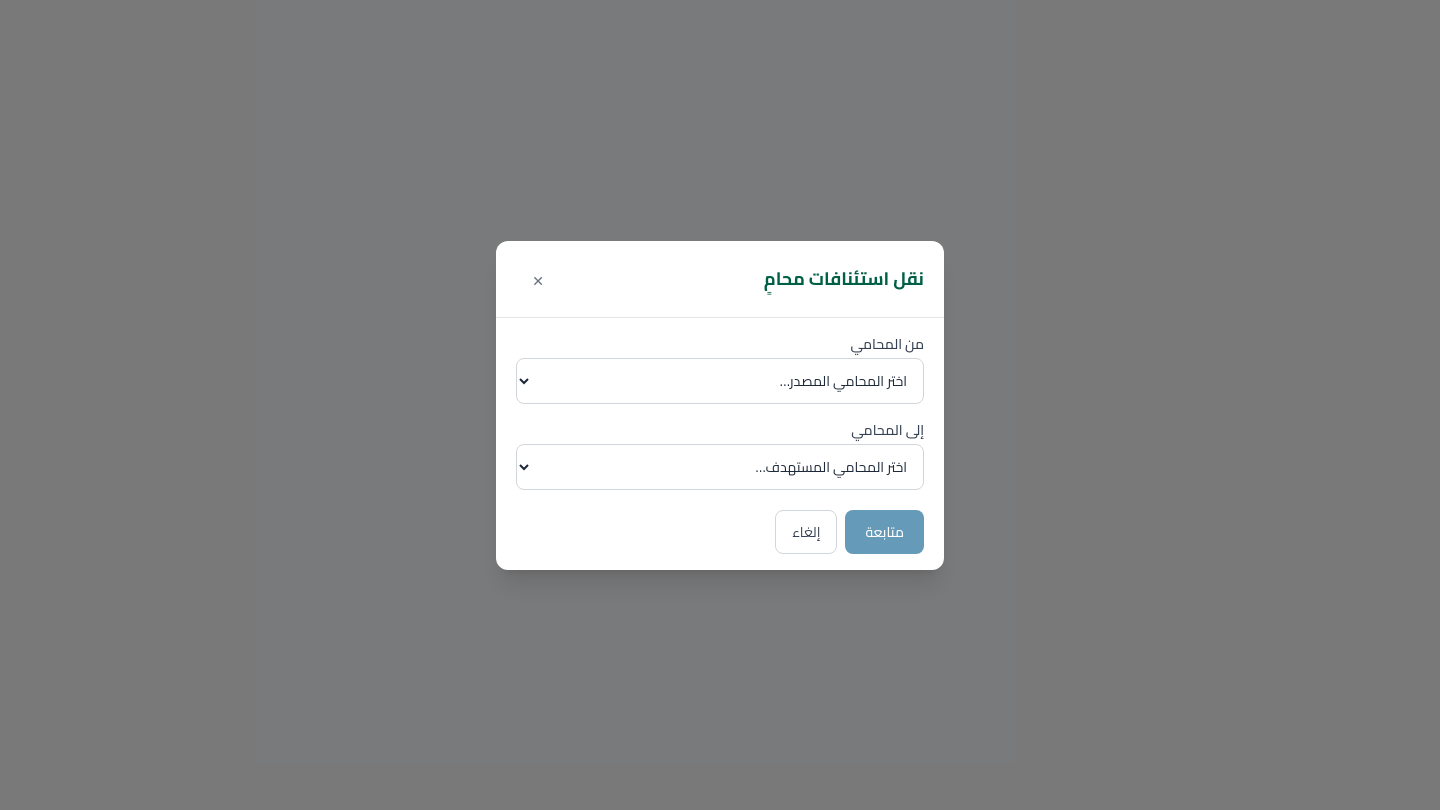
Scenario: TransferAllAppealsModal › معاينة النقل توضح أن المنظورة فقط تُنقل
The width and height of the screenshot is (1440, 810).
Select "محامي أول" in the dropdown labelled "من المحامي" at (720, 380), box [516,358,924,404]
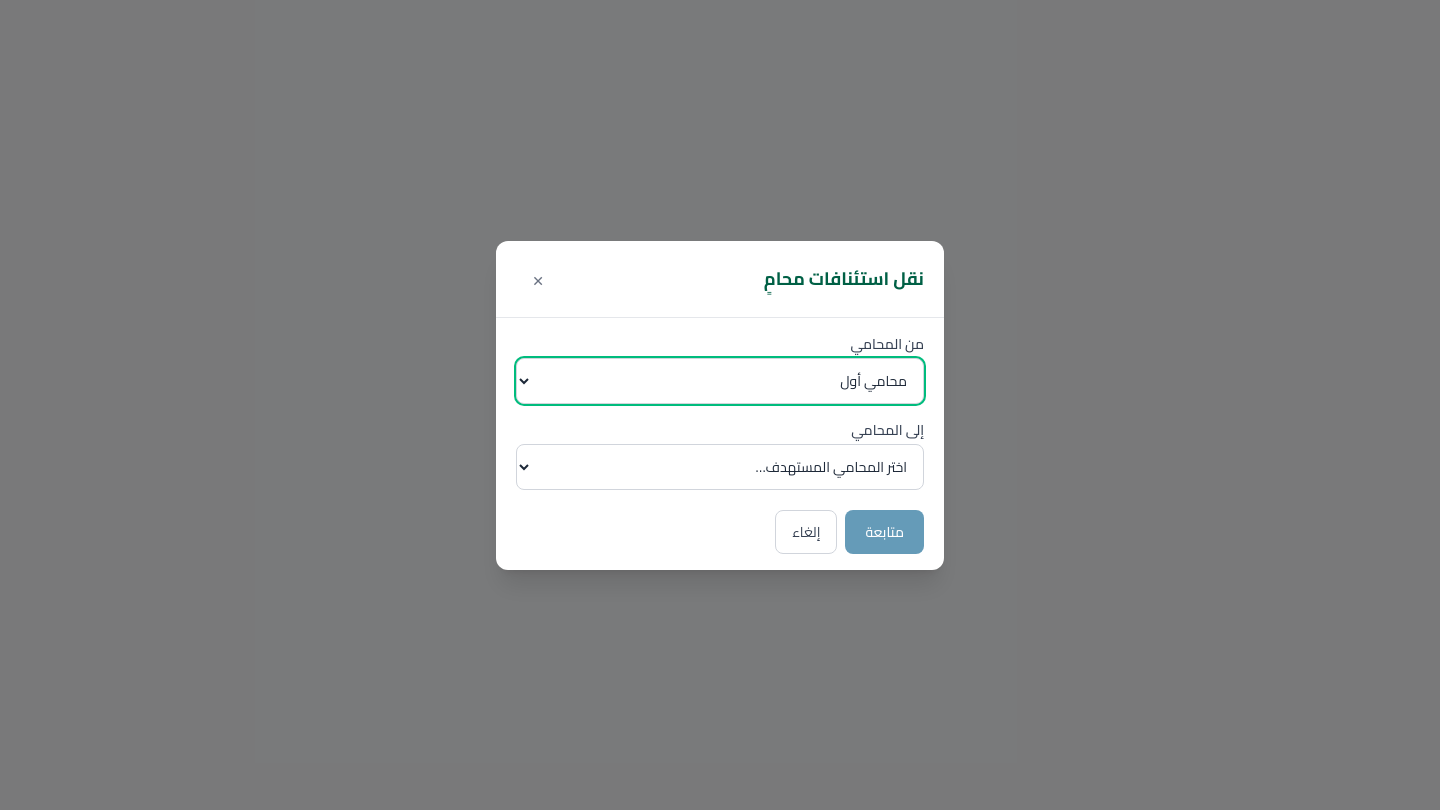
Select "محامي ثانٍ" in the dropdown labelled "إلى المحامي" at (720, 466), box [516,444,924,490]
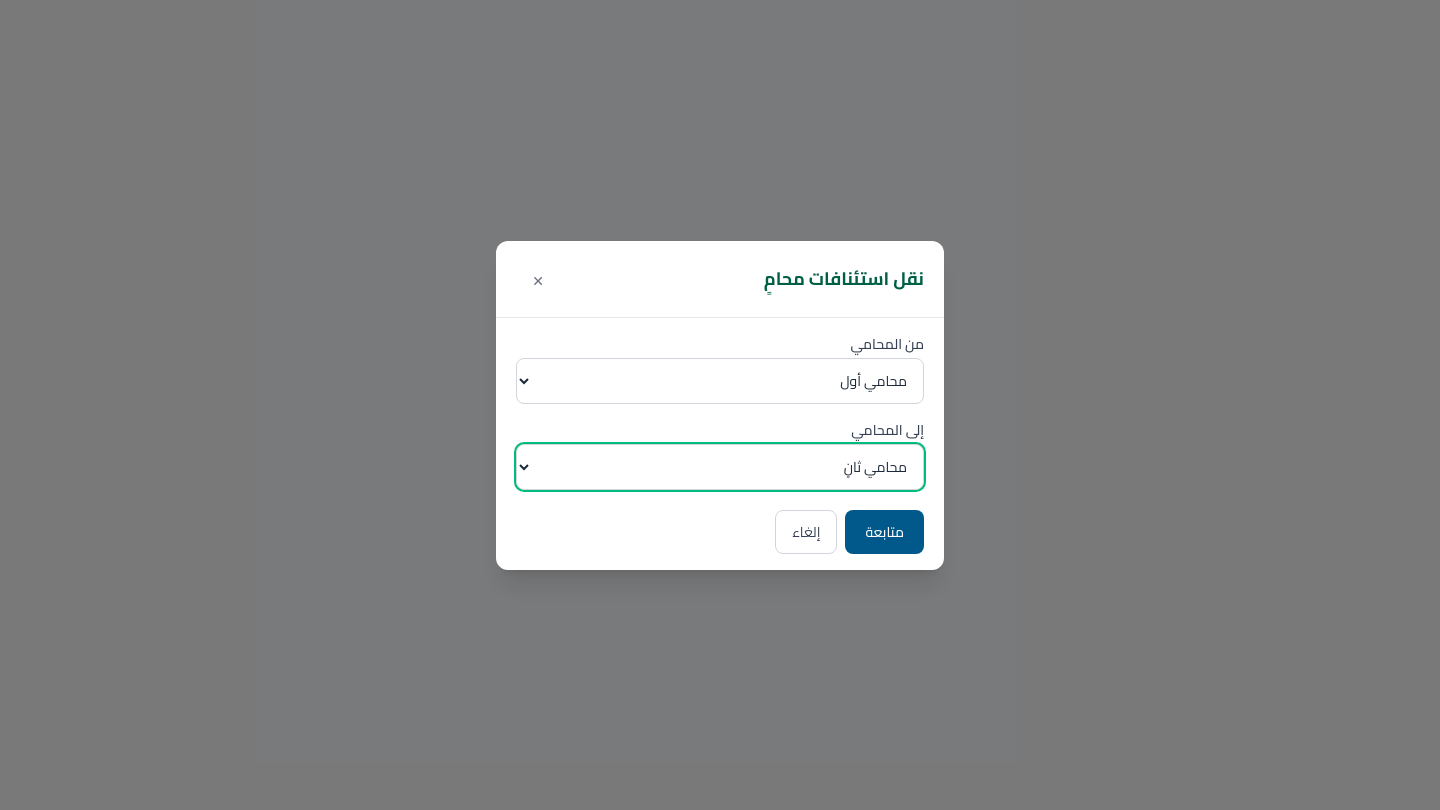
Click the button "متابعة".
click(885, 532)  # box [845,510,924,554]
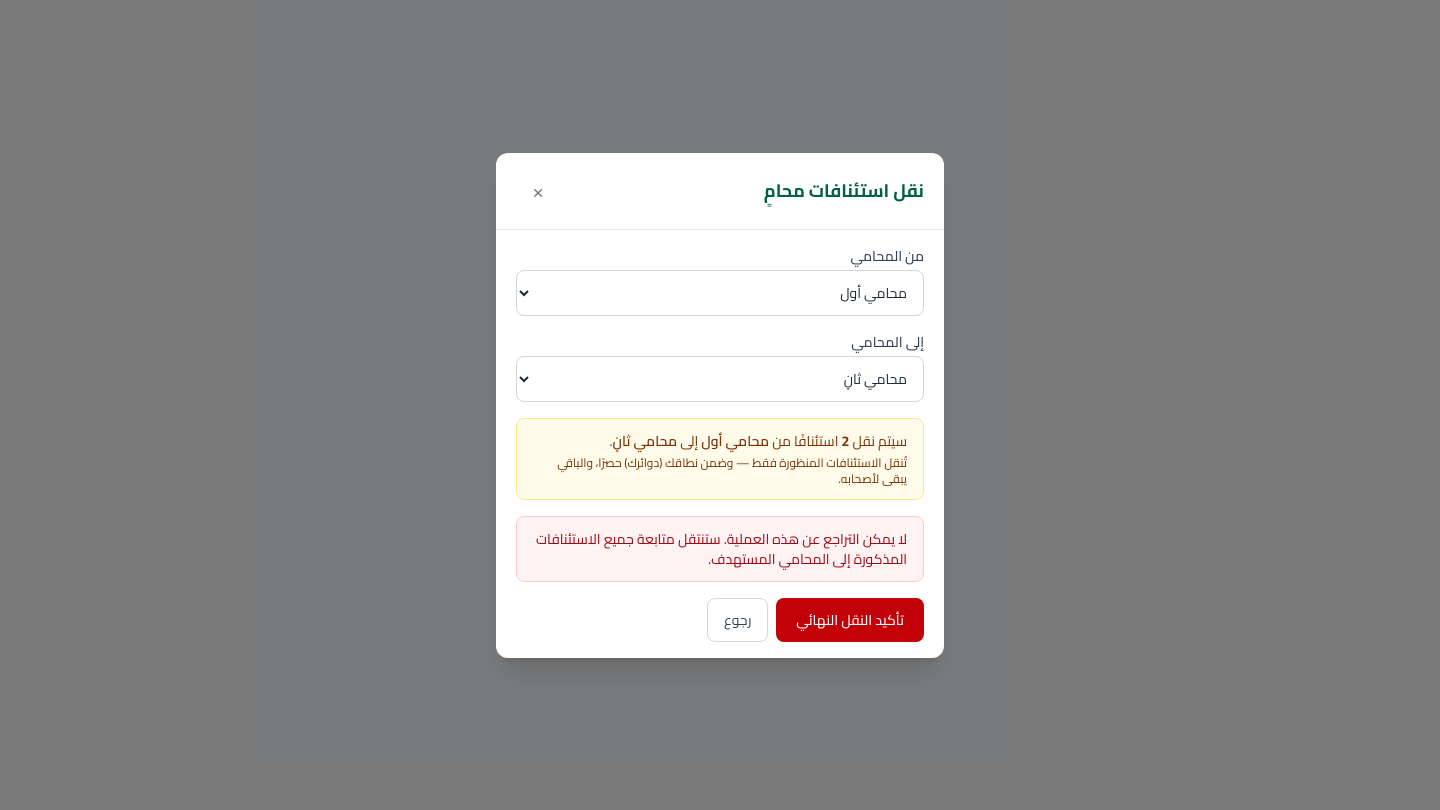
Expected: the text "سيتم نقل" is shown, [849,428,907,454]
Expected: the text "تُنقل الاستئنافات المنظورة فقط" is shown, [557,450,907,490]
